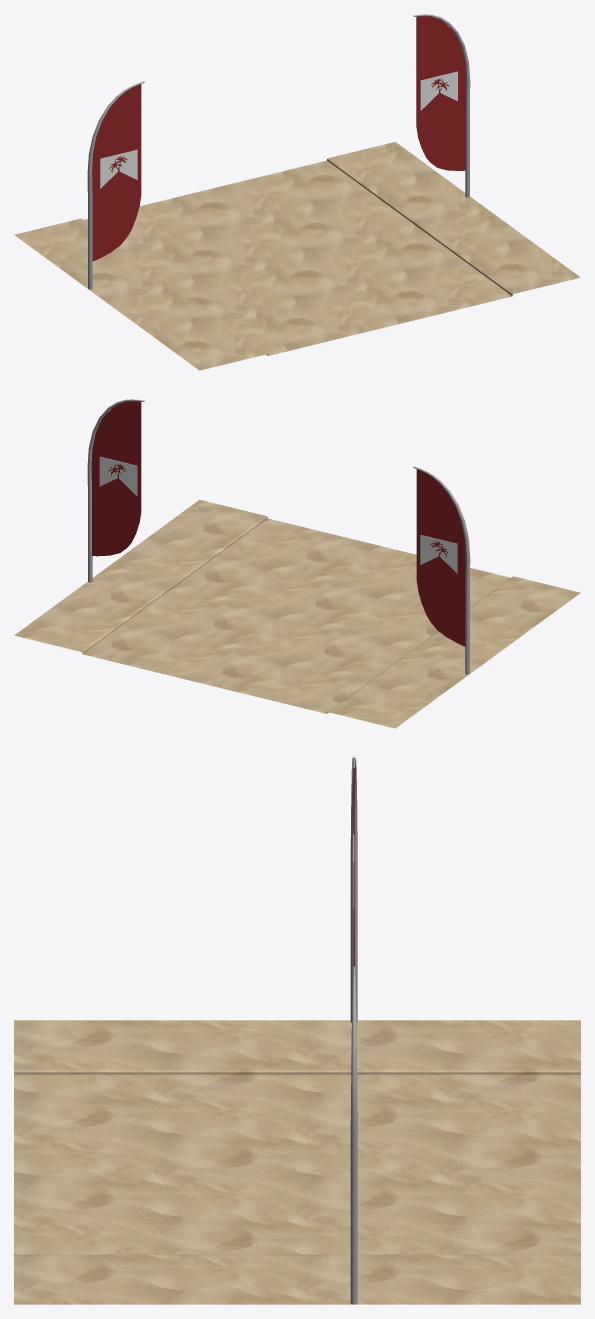
The model's file is SandRoadWFlag.fbx.
The picture shows the model from 3 angles, top to bottom: view 1: azimuth 30°, elevation 25°; view 2: azimuth 150°, elevation 25°; view 3: azimuth 270°, elevation 25°; orthographic projection. The views are drawn at different scales.
Parts seen in each view (by area): view 1: pasted__pPlane1, Flag2, Flag3; view 2: pasted__pPlane1, Flag2, Flag3; view 3: pasted__pPlane1, Flag3, Flag2.
Boxes of the visible parts, box(x1,y1,x2,y2) form: pasted__pPlane1: box(14, 142, 580, 370); Flag2: box(87, 81, 144, 289); Flag3: box(413, 14, 470, 197); pasted__pPlane1: box(14, 499, 580, 728); Flag2: box(413, 466, 470, 674); Flag3: box(87, 399, 144, 582); pasted__pPlane1: box(14, 1020, 580, 1304); Flag3: box(350, 966, 357, 1304); Flag2: box(350, 757, 357, 1022).
Size of the model in its own units: 1192 by 585 by 1003.
Materials: 4 (1 with a texture image).
